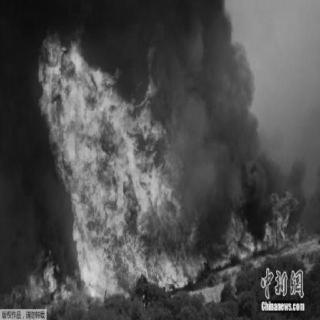Fire: (217, 185, 301, 273)
